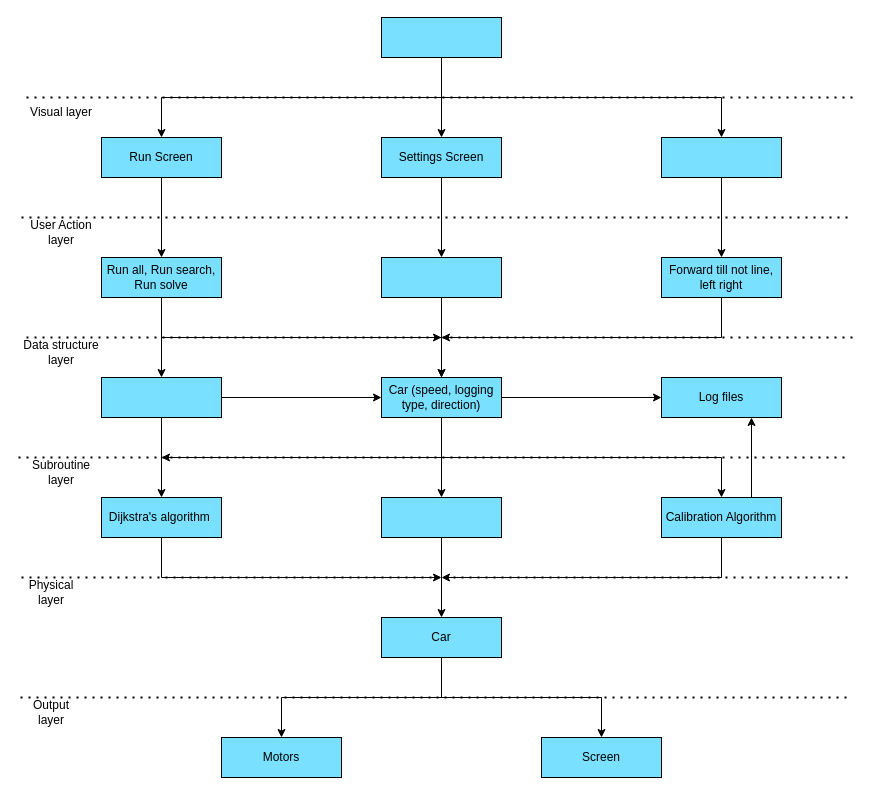
Image size: 875x795. Some labels were removed from this diagram. The shapes that lost their labels are listed below. From the top down, each one's centre as x and y in pixels, then its label:
At (x=441, y=37): "Main Menu".
At (x=721, y=157): "Calibration Screen".
At (x=441, y=277): "Speed, logging type".
At (x=161, y=397): "Maze Graph".
At (x=441, y=517): "Search algorithm".
